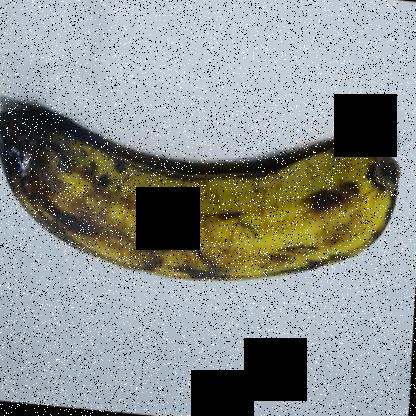overripe: (1, 74, 398, 308)
rotten: (1, 83, 100, 231)
